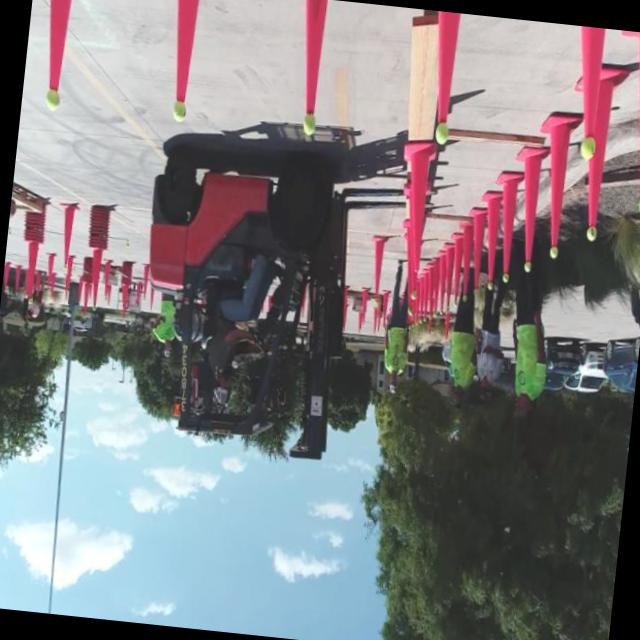driver: (191, 249, 285, 412)
forklift: (118, 119, 374, 481)
person: (497, 274, 556, 432), (374, 278, 418, 397), (441, 296, 476, 411), (470, 307, 507, 396), (144, 283, 182, 366)
